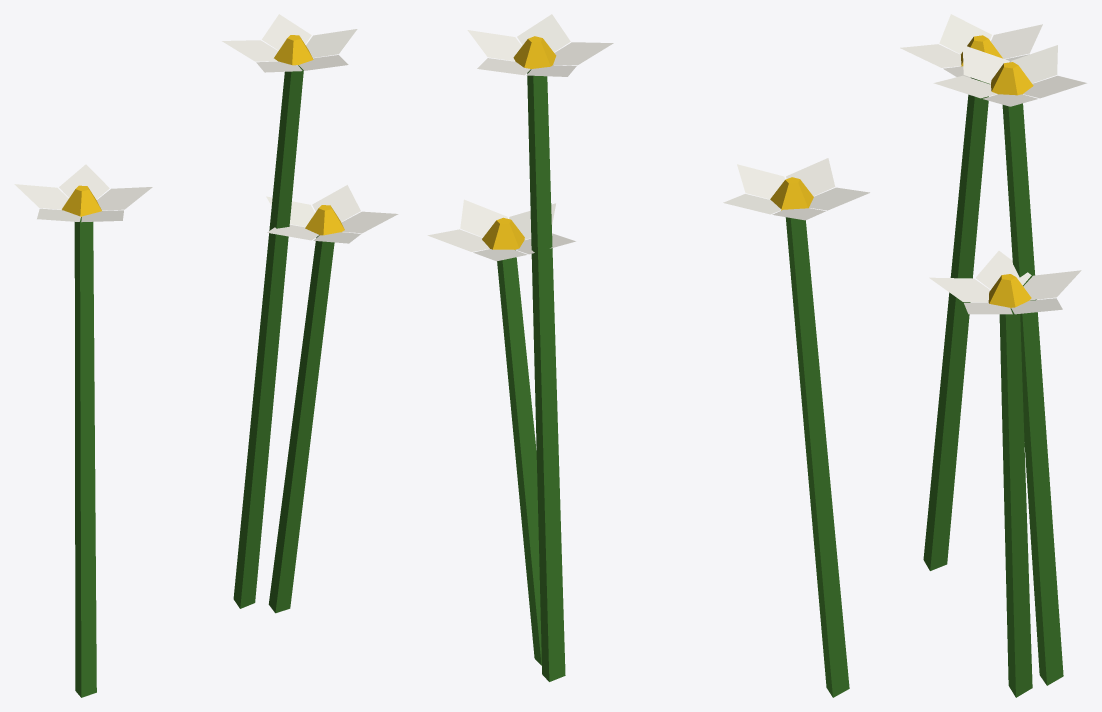
The model's file is Flower_White.fbx.
3 views of the same model, side by side, from view 1: azimuth 30°, elevation 25°; view 2: azimuth 150°, elevation 25°; view 3: azimuth 270°, elevation 25° (orthographic). The views are drawn at different scales.
Parts seen in each view (by area): view 1: Flower_White.001; view 2: Flower_White.001; view 3: Flower_White.001.
Boxes of the visible parts, bbox=[...] form: Flower_White.001: bbox=[14, 14, 398, 697]; Flower_White.001: bbox=[427, 14, 869, 697]; Flower_White.001: bbox=[900, 14, 1086, 697].
Size of the model in its own units: 0.2333 by 0.345 by 0.0928.
